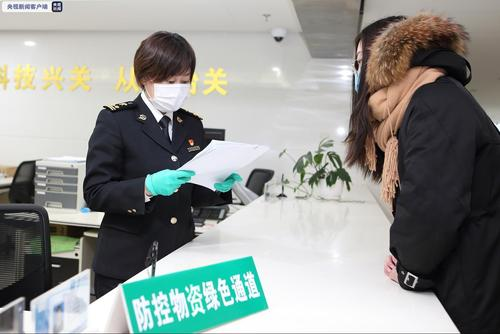Mask: (146, 66, 189, 113)
